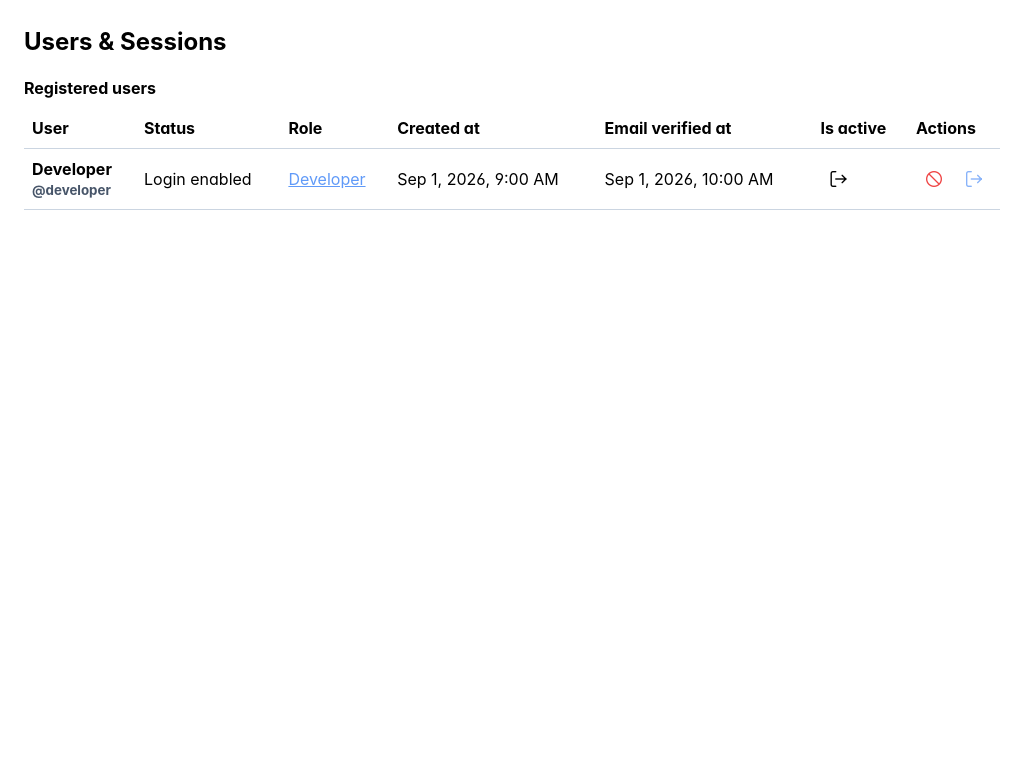
Test: UserAdministrationPage › temporarily deactivates an active logged-out user before opening the role dialog and reactivates on cancel
The width and height of the screenshot is (1024, 768).
Click the button "Developer".
click(327, 179)  # box 288,167 -> 366,191
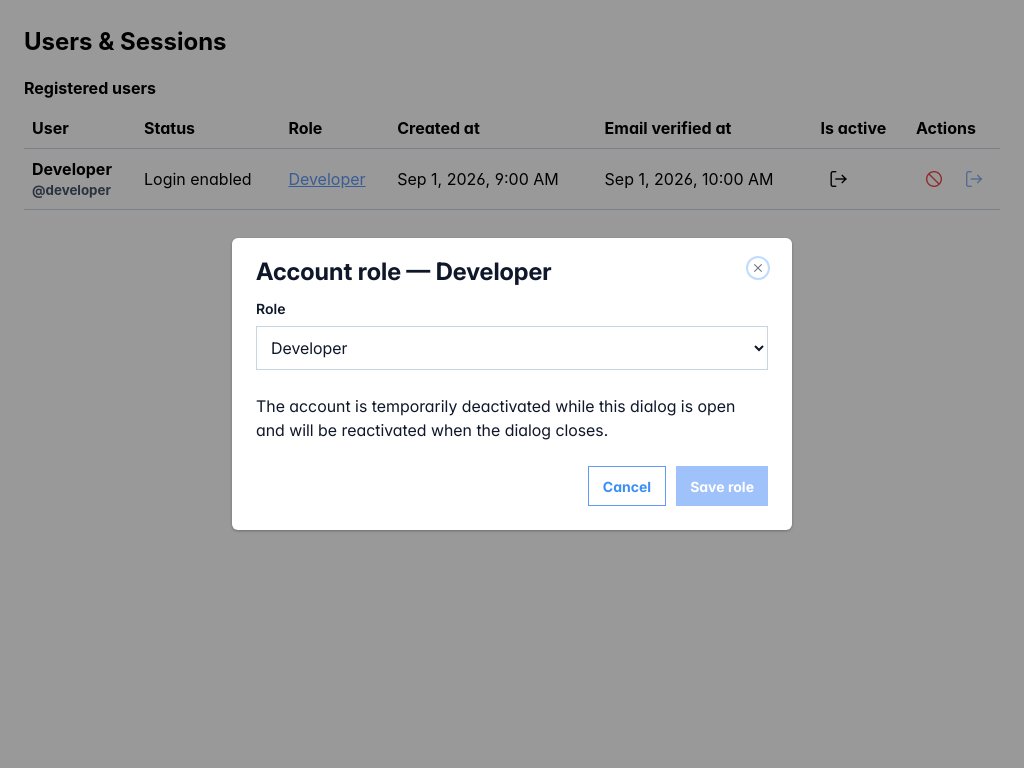
Now the dialog is shown, box 232,238 -> 792,530
Click the button "Cancel".
click(627, 486)  # box 588,466 -> 666,506
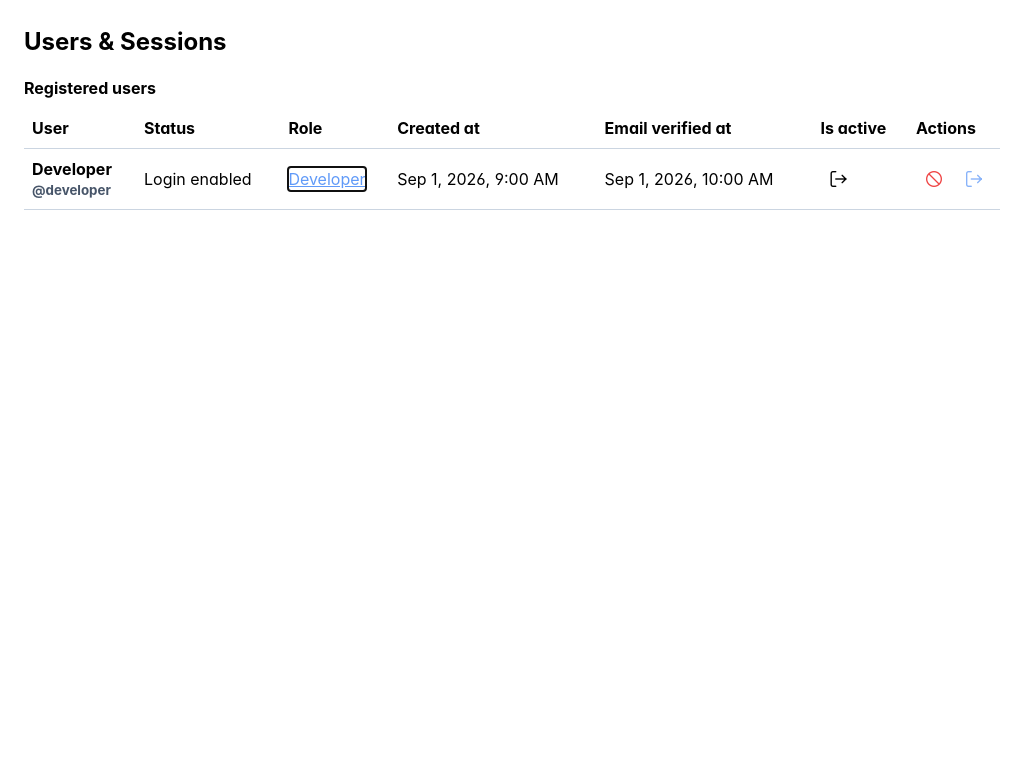
Now the dialog is gone
